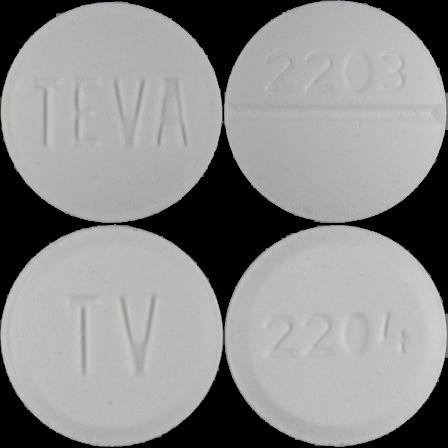0093-2203: (0, 0, 224, 224)
